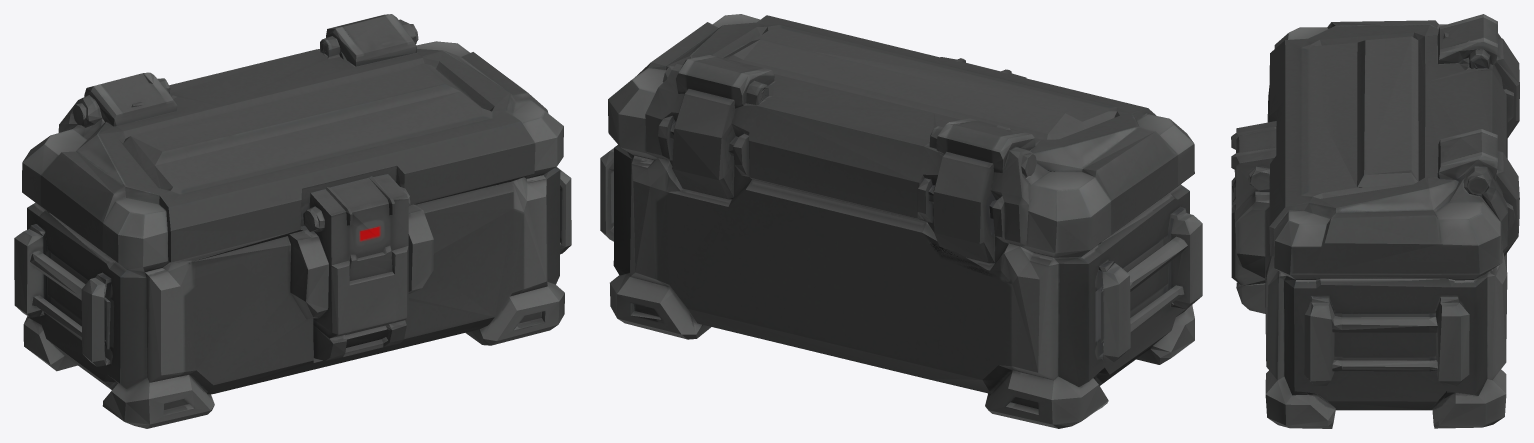
The model's file is chest_flat.fbx.
3 renders of one model, left to right at view 1: azimuth 30°, elevation 25°; view 2: azimuth 150°, elevation 25°; view 3: azimuth 270°, elevation 25°, orthographic. The views are drawn at different scales.
Visible parts, largest first — view 1: output_unwrapped; view 2: output_unwrapped; view 3: output_unwrapped.
Boxes of the visible parts, x1,y1,x2,y2 form: output_unwrapped: (14, 14, 571, 428); output_unwrapped: (600, 14, 1202, 428); output_unwrapped: (1231, 14, 1519, 428).
Bounding box in the file's own units: 130 × 65.56 × 69.82.
1 material, 1 textured.
